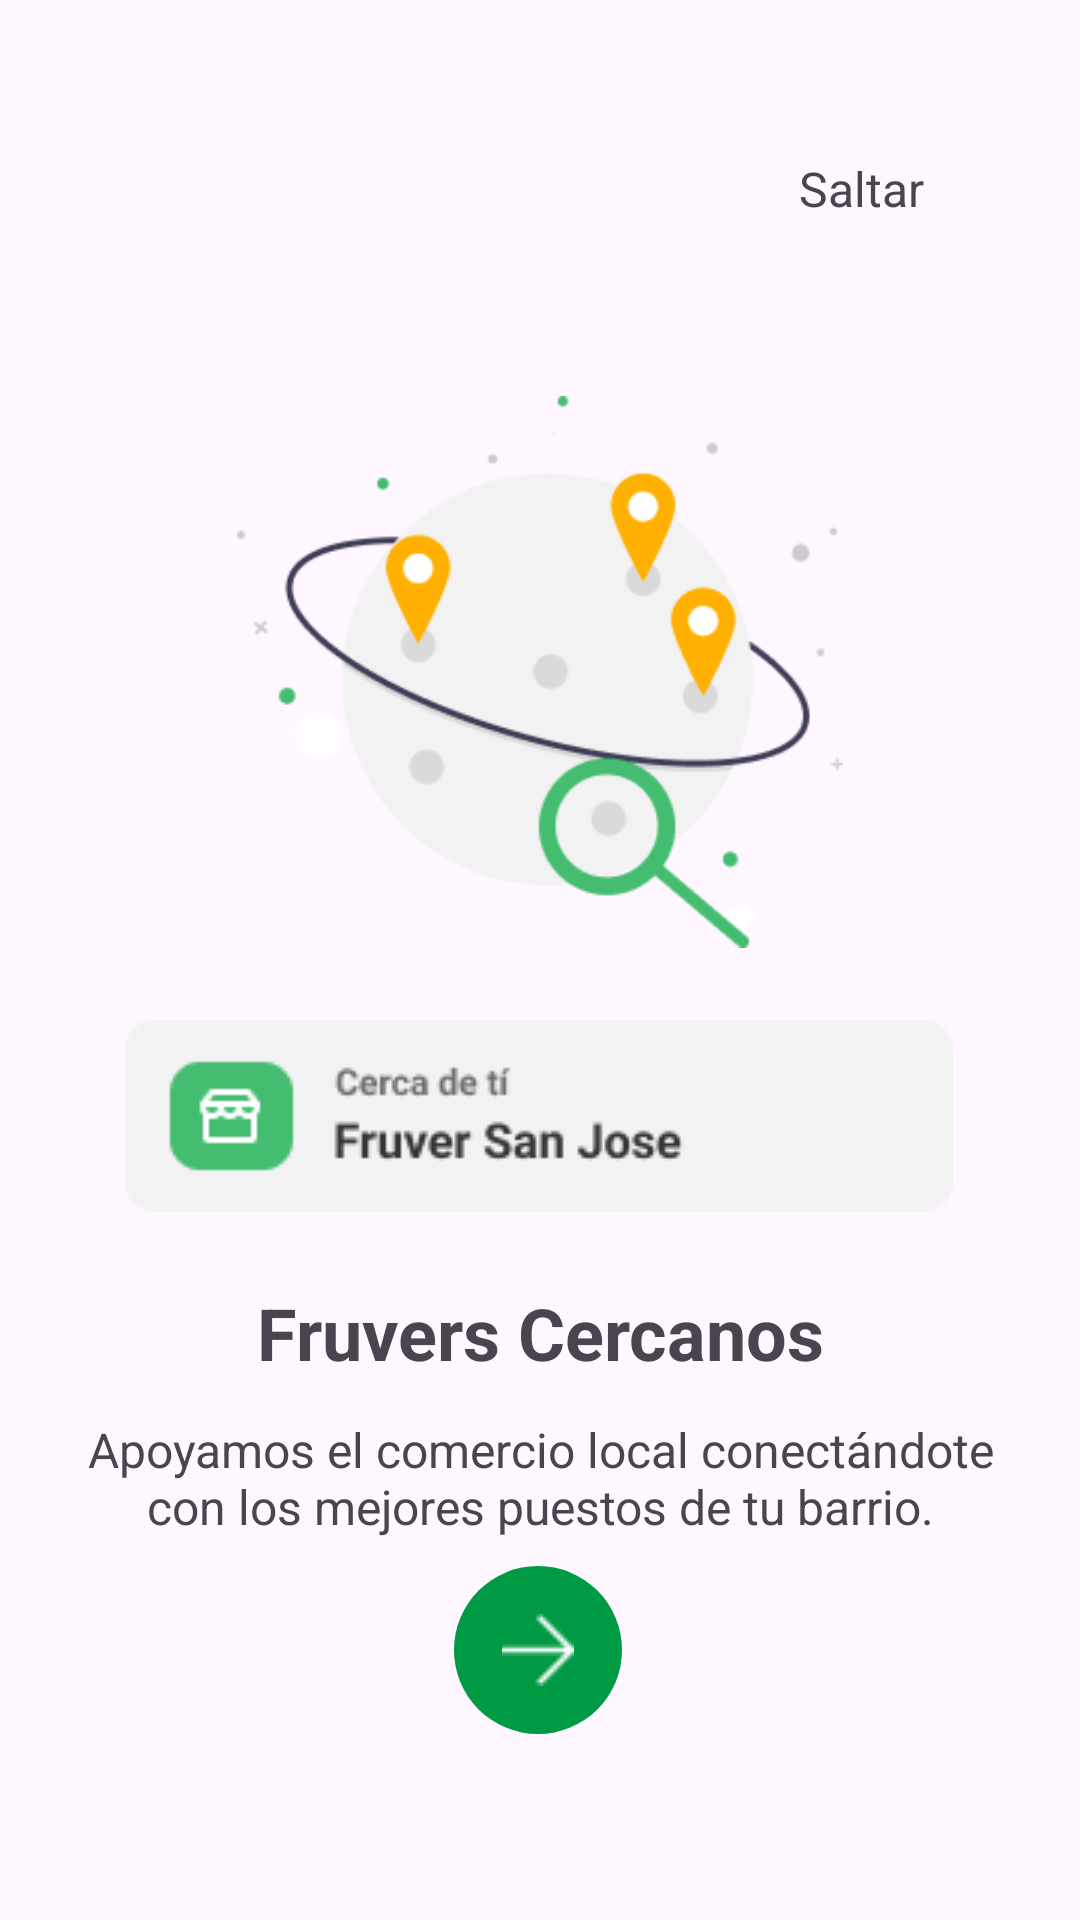

Point at icon controls on the screen. Image size 1080px×1920px, points as (x=x, y=y).
arrow forward: (x=538, y=1650)
